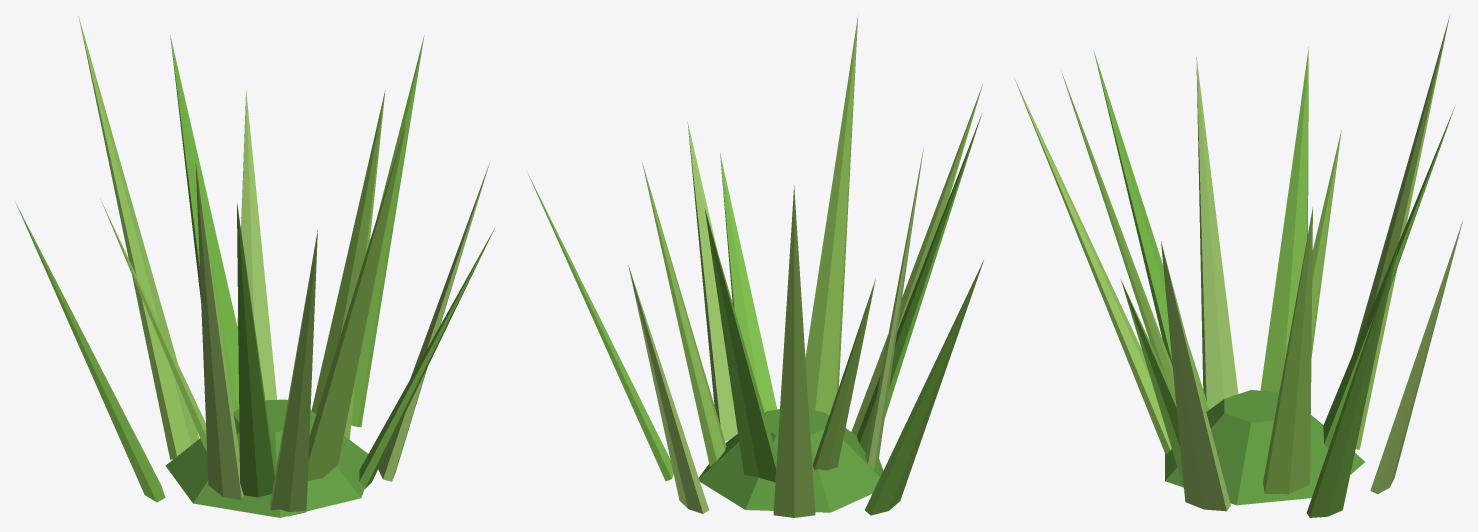
Rendered from capim_alto.glb.
The picture shows the model from 3 angles, left to right: view 1: azimuth 30°, elevation 25°; view 2: azimuth 150°, elevation 25°; view 3: azimuth 270°, elevation 25°; orthographic projection. The views are drawn at different scales.
Parts seen in each view (by area): view 1: capim_lamina_05, capim_lamina_11, capim_base, capim_lamina_08, capim_lamina_09, capim_lamina_10, capim_lamina_04, capim_lamina_03, capim_lamina_01, capim_lamina_02, capim_lamina_07, capim_lamina_12 (+2 smaller); view 2: capim_lamina_11, capim_lamina_05, capim_base, capim_lamina_04, capim_lamina_07, capim_lamina_13, capim_lamina_12, capim_lamina_03, capim_lamina_01, capim_lamina_09, capim_lamina_06, capim_lamina_02 (+2 smaller); view 3: capim_base, capim_lamina_01, capim_lamina_08, capim_lamina_13, capim_lamina_07, capim_lamina_02, capim_lamina_10, capim_lamina_05, capim_lamina_09, capim_lamina_03, capim_lamina_11, capim_lamina_04 (+2 smaller).
Boxes of the visible parts, x1,y1,x2,y2 form: capim_lamina_05: (78,16,199,459); capim_lamina_11: (307,121,406,481); capim_base: (165,399,368,517); capim_lamina_08: (195,162,243,499); capim_lamina_09: (237,203,275,497); capim_lamina_10: (270,229,317,516); capim_lamina_04: (170,35,239,411); capim_lamina_03: (237,89,277,400); capim_lamina_01: (311,90,385,439); capim_lamina_02: (351,35,424,426); capim_lamina_07: (14,200,165,502); capim_lamina_12: (359,228,494,488); capim_lamina_11: (805,14,858,415); capim_lamina_05: (773,185,815,517); capim_base: (699,409,883,512); capim_lamina_04: (704,208,776,481); capim_lamina_07: (865,260,983,515); capim_lamina_13: (687,122,737,440); capim_lamina_12: (720,153,777,412); capim_lamina_03: (628,265,708,513); capim_lamina_01: (641,160,726,466); capim_lamina_09: (857,114,981,452); capim_lamina_06: (812,278,875,470); capim_lamina_02: (527,173,673,481); capim_base: (1165,390,1364,505); capim_lamina_01: (1263,207,1312,494); capim_lamina_08: (1196,56,1238,409); capim_lamina_13: (1161,241,1230,511); capim_lamina_07: (1260,47,1308,392); capim_lamina_02: (1306,245,1398,517); capim_lamina_10: (1014,78,1171,454); capim_lamina_05: (1353,16,1449,449); capim_lamina_09: (1093,50,1209,411); capim_lamina_03: (1370,220,1462,494); capim_lamina_11: (1061,71,1175,395); capim_lamina_04: (1323,105,1455,447).
Bounding box in the file's own units: 1.17 × 1.04 × 1.03.
